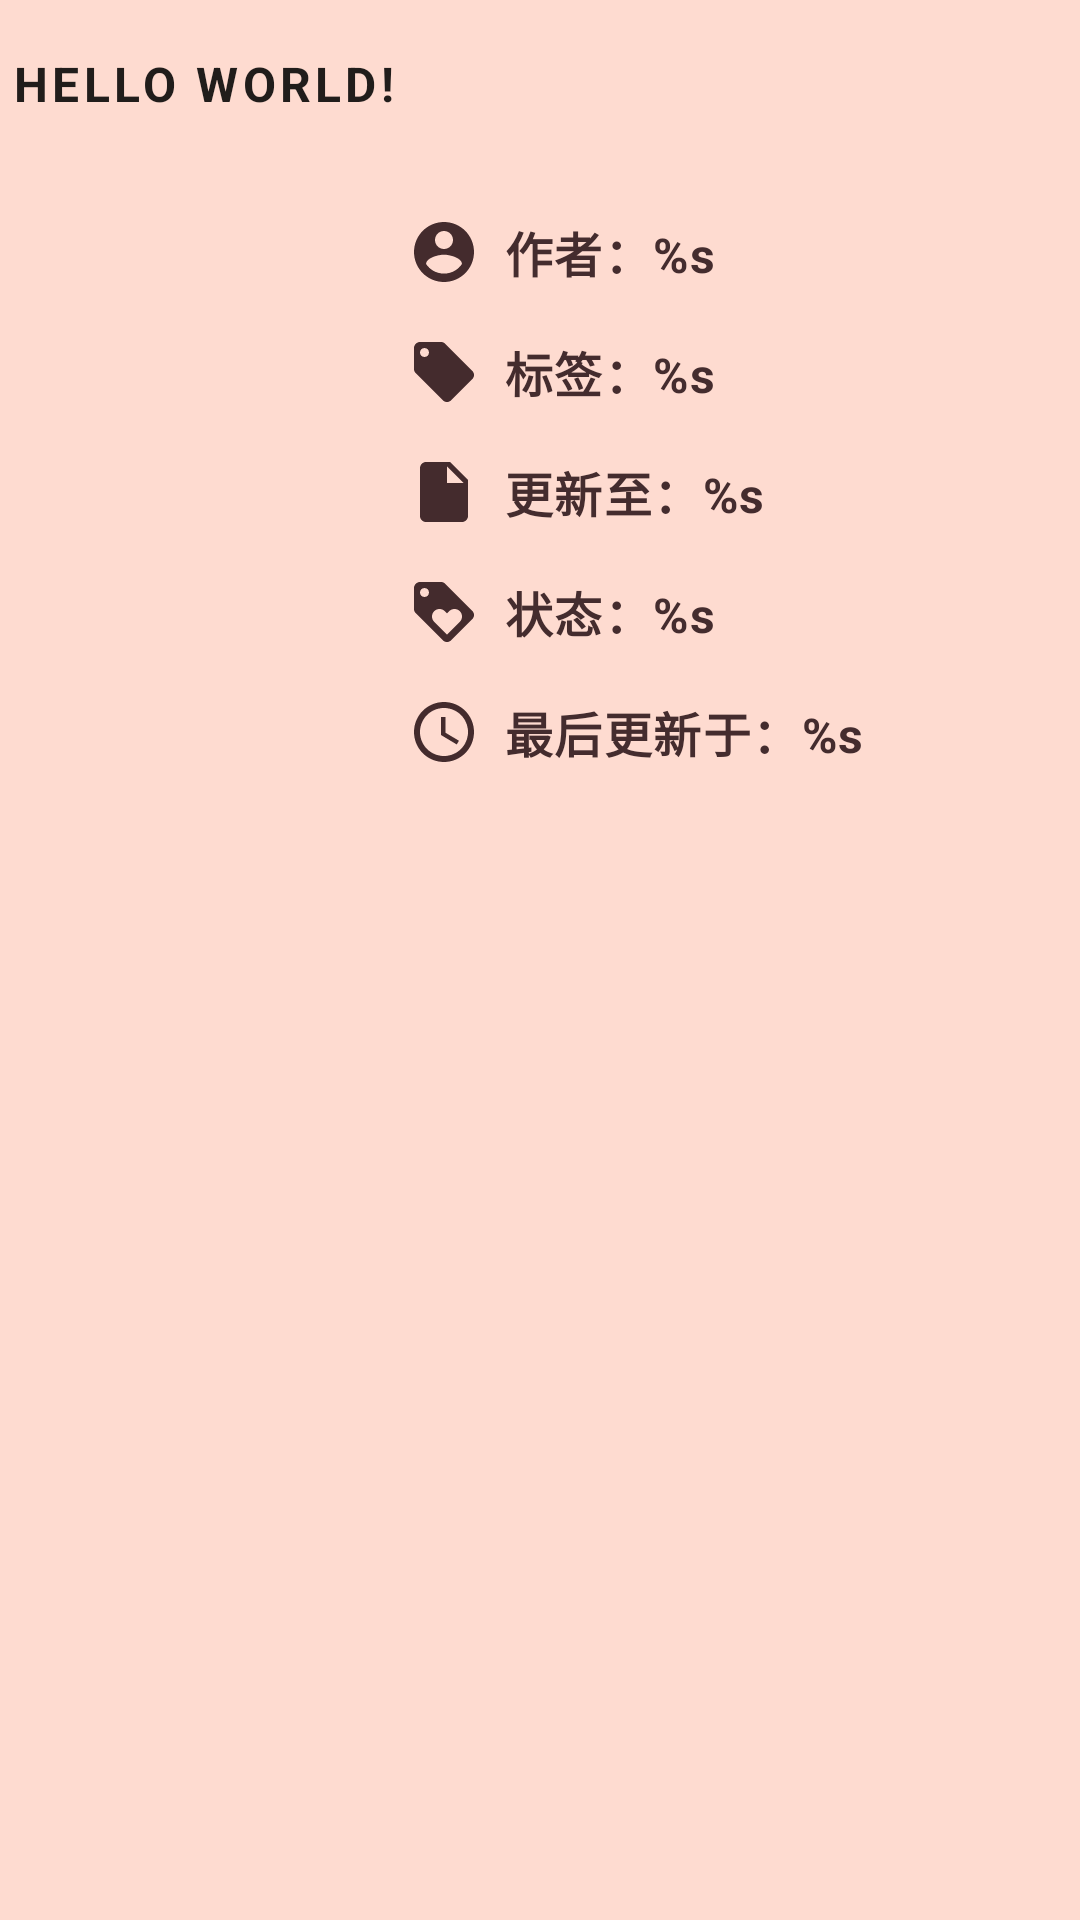

Named icons in this screenshot (1080px x 1920px) and their bounding boxes, (x1, y1, x2, y2):
latest chapter: (420, 462, 468, 522)
time: (414, 702, 474, 762)
